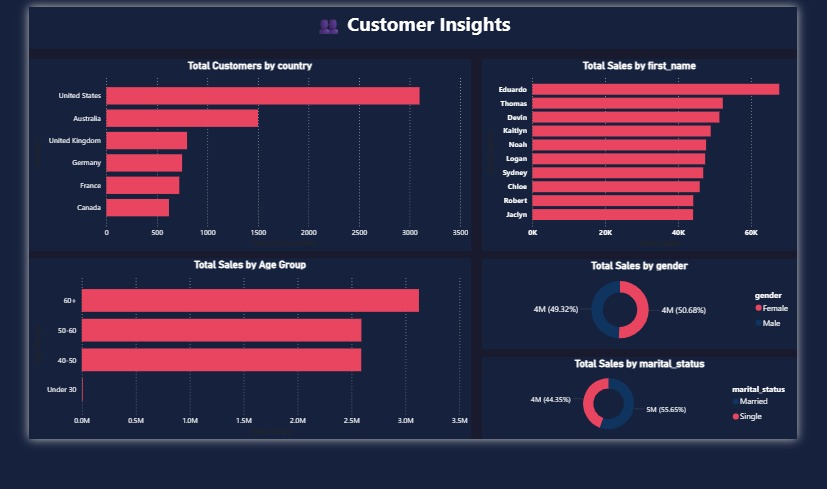

What the dashboard file says about the page in this screenshot:
{"tool":"powerbi","page":{"name":"Customer Insights","canvas":[1280,720],"ordinal":2},"visuals":[{"type":"textbox","box":[0,0,1280,70],"z":0},{"type":"clusteredBarChart","fields":{"Category":["customers.first_name"],"Y":["fact_sales.Total Sales"]},"box":[755,86.7,525,320],"z":1},{"type":"donutChart","fields":{"Category":["customers.gender"],"Y":["fact_sales.Total Sales"]},"box":[755,420,525,150],"z":2},{"type":"donutChart","fields":{"Category":["customers.marital_status"],"Y":["fact_sales.Total Sales"]},"box":[755,583.3,525,136.7],"z":3},{"type":"clusteredBarChart","fields":{"Category":["customers.country"],"Y":["fact_sales.Total Customers"]},"box":[0,86.7,736.7,320],"z":4},{"type":"clusteredBarChart","fields":{"Category":["customers.Age Group"],"Y":["fact_sales.Total Sales"]},"box":[0,418.3,736.7,301.7],"z":5}]}

Visuals, with their boxes on the page's 1280x720 design canvas (x1, y1, x2, y2). These are canvas units, not pixel positions in the 827x489 screenshot, which may show the page scaled, cropped or inside an application window:
textbox: 0,0,1280,70
clusteredBarChart - customers.first_name x fact_sales.Total Sales: 755,87,1280,407
donutChart - customers.gender x fact_sales.Total Sales: 755,420,1280,570
donutChart - customers.marital_status x fact_sales.Total Sales: 755,583,1280,720
clusteredBarChart - customers.country x fact_sales.Total Customers: 0,87,737,407
clusteredBarChart - customers.Age Group x fact_sales.Total Sales: 0,418,737,720
